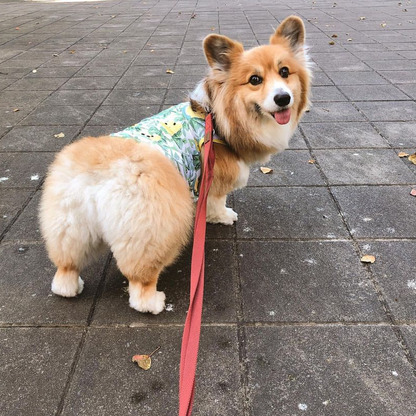Corgi: (42, 13, 313, 306)
